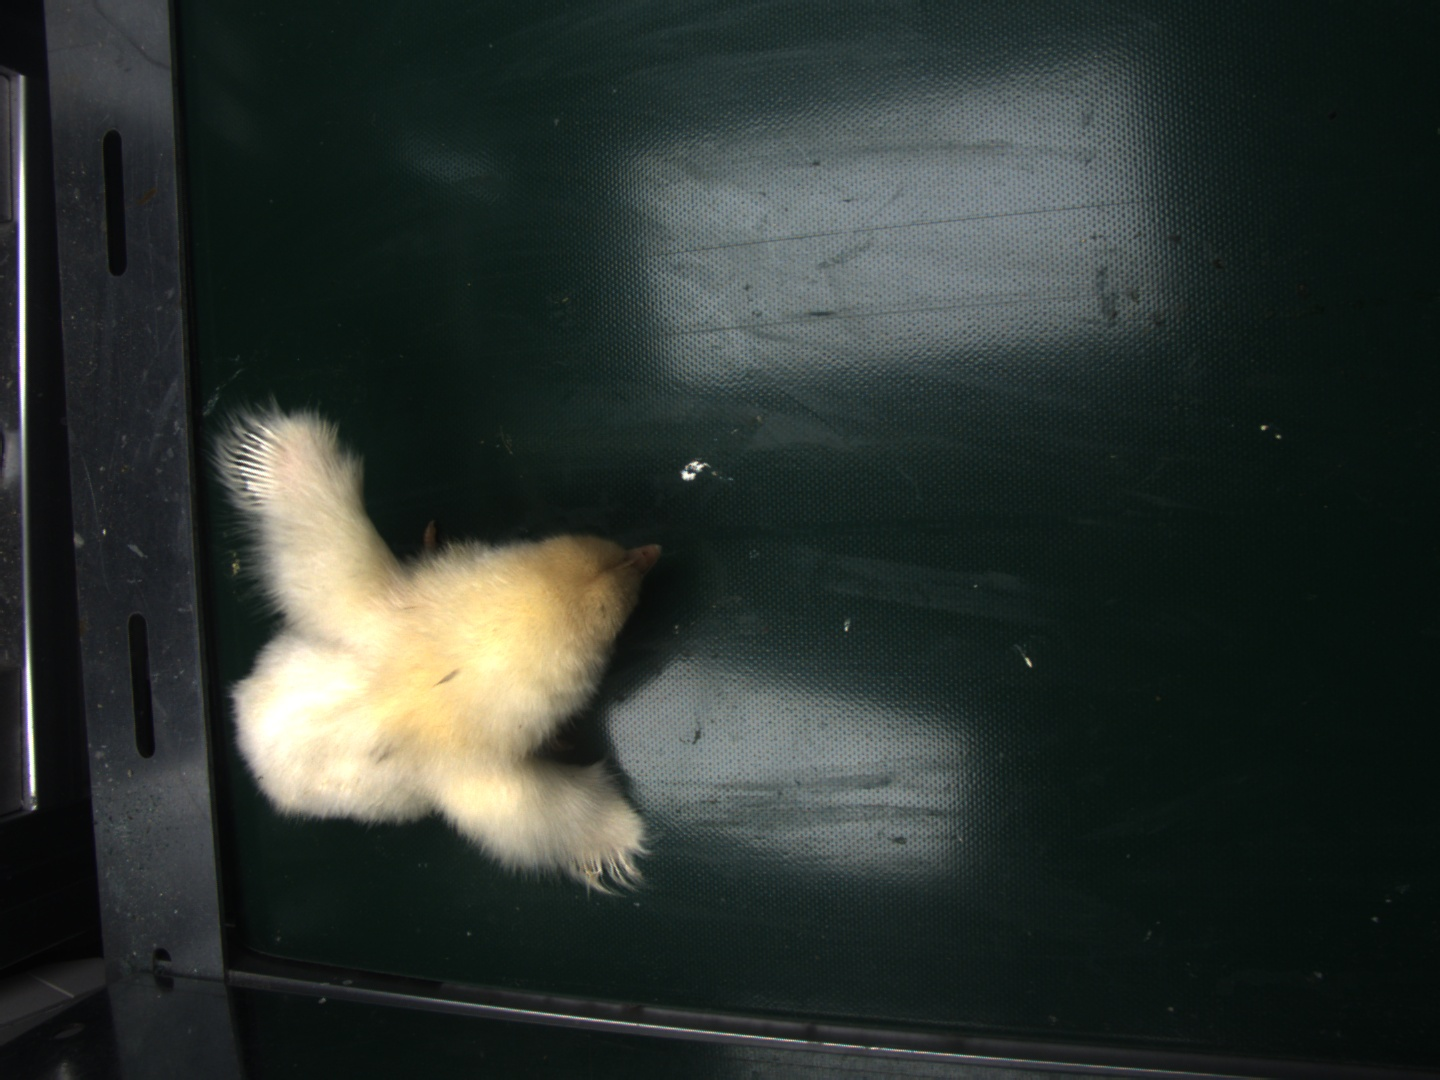male: (234, 422, 288, 501)
